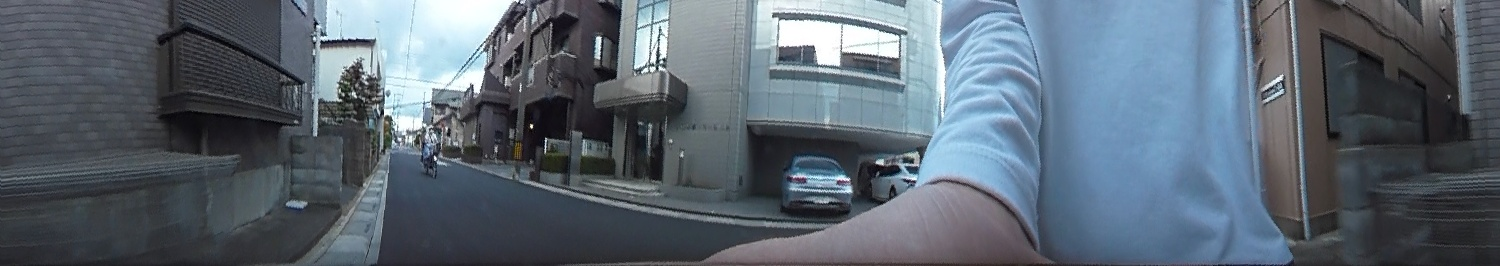difficult_person: (421, 124, 437, 164)
